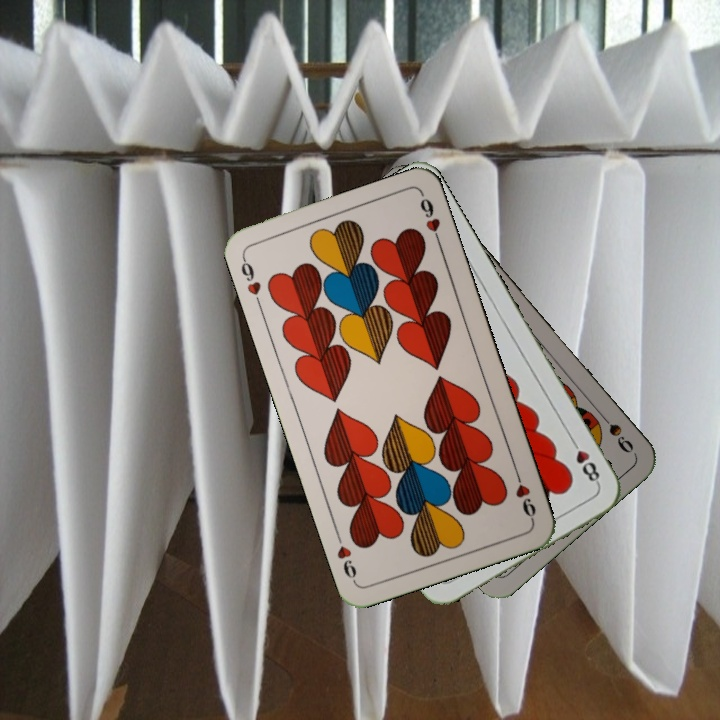H8: (566, 434, 603, 488)
H9: (510, 466, 539, 524), (237, 252, 264, 310)
S9: (593, 407, 636, 456)
